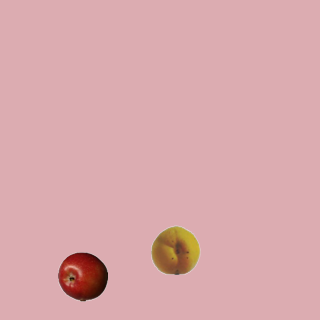Apple Braeburn: (57, 251, 107, 301)
Peach 2: (150, 224, 200, 274)
